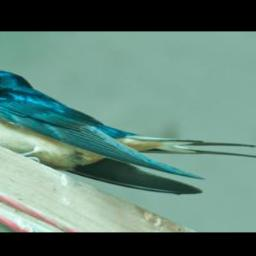Swallow: (0, 68, 256, 196)
